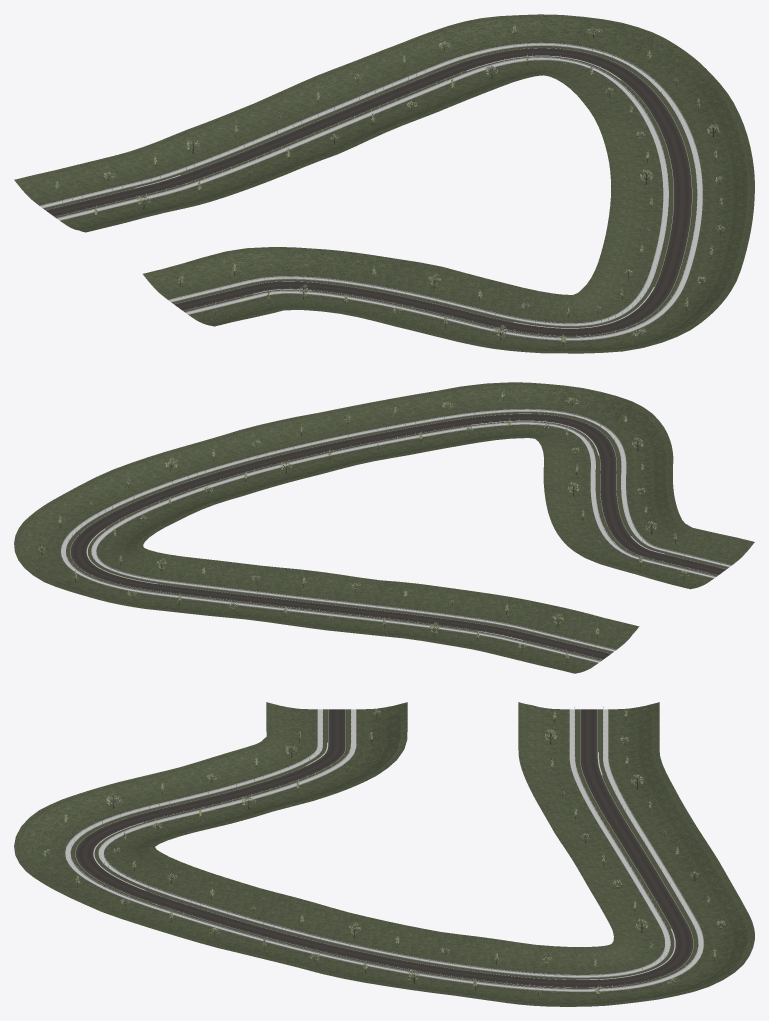
The picture shows the model from 3 angles, top to bottom: view 1: azimuth 30°, elevation 25°; view 2: azimuth 150°, elevation 25°; view 3: azimuth 270°, elevation 25°; orthographic projection. The views are drawn at different scales.
Parts seen in each view (by area): view 1: Grass, Road, Track, Trees; view 2: Grass, Road, Track, Trees; view 3: Grass, Road, Track, Trees.
Part boxes in pixels (bbox=[...]): Grass: bbox=[14, 14, 754, 353]; Road: bbox=[46, 48, 691, 336]; Track: bbox=[40, 42, 702, 340]; Trees: bbox=[55, 24, 724, 347]; Grass: bbox=[14, 382, 754, 673]; Road: bbox=[70, 414, 726, 659]; Track: bbox=[61, 409, 731, 662]; Trees: bbox=[38, 389, 724, 662]; Grass: bbox=[14, 702, 754, 1006]; Road: bbox=[75, 709, 693, 987]; Track: bbox=[65, 707, 703, 991]; Trees: bbox=[43, 708, 725, 997].
Size of the model in its own units: 71427 by 1755 by 73527.
